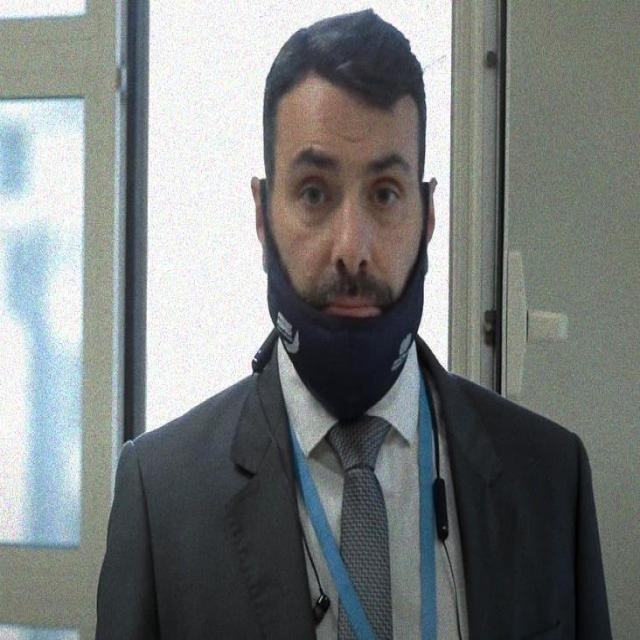hairnet: (262, 145, 434, 415)
